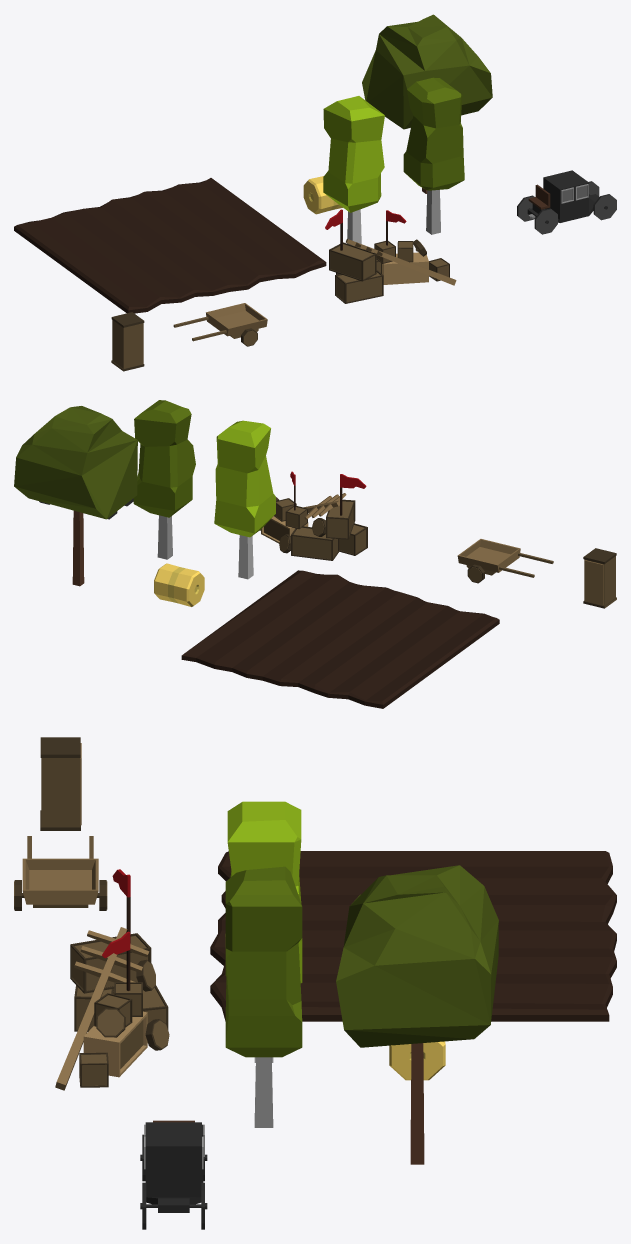
3 views of the same model, one above another, from view 1: azimuth 30°, elevation 25°; view 2: azimuth 150°, elevation 25°; view 3: azimuth 270°, elevation 25° (orthographic). The views are drawn at different scales.
Visible parts, largest first — view 1: Field, Tree3, Tree, Tree2, Barikada, Carrige, Cart, Toilet, Hay; view 2: Field, Tree3, Tree2, Tree, Barikada, Cart, Toilet, Hay; view 3: Field, Tree3, Tree, Barikada, Carrige, Tree2, Cart, Toilet, Hay.
Boxes of the visible parts, x1,y1,x2,y2 form: Field: [14, 178, 326, 313]; Tree3: [362, 14, 492, 193]; Tree: [403, 77, 464, 234]; Tree2: [323, 96, 384, 245]; Barikada: [325, 209, 456, 303]; Carrige: [517, 170, 616, 234]; Cart: [173, 303, 267, 346]; Toilet: [111, 312, 144, 371]; Hay: [303, 176, 342, 214]; Field: [181, 570, 499, 708]; Tree3: [14, 406, 137, 586]; Tree2: [214, 420, 275, 579]; Tree: [133, 400, 195, 559]; Barikada: [260, 471, 367, 560]; Cart: [457, 539, 553, 583]; Toilet: [583, 548, 616, 608]; Hay: [154, 563, 204, 606]; Field: [210, 851, 616, 1021]; Tree3: [336, 865, 498, 1164]; Tree: [225, 866, 302, 1127]; Barikada: [55, 869, 169, 1090]; Carrige: [140, 1120, 207, 1229]; Tree2: [225, 801, 302, 1062]; Cart: [14, 836, 107, 910]; Toilet: [40, 737, 81, 830]; Hay: [389, 1041, 445, 1080].
Bounding box in the file's own units: 2647 × 809 × 1571.
